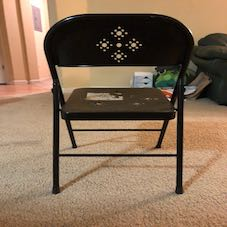chair: (23, 2, 211, 203)
